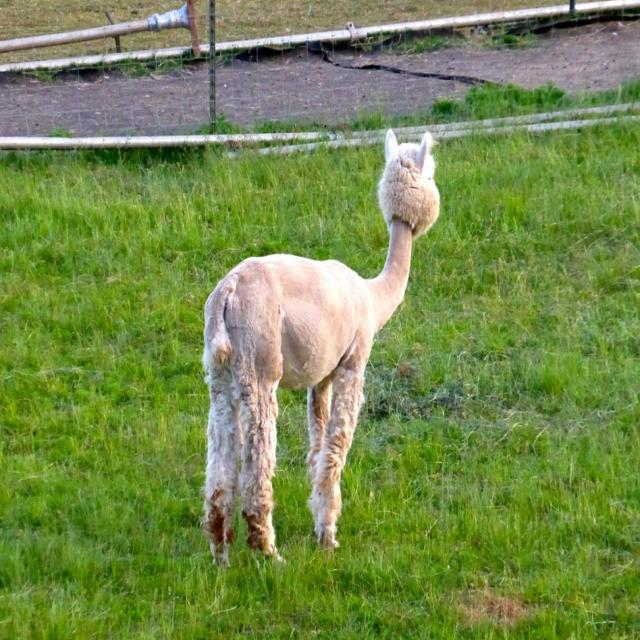alpaca: (202, 130, 442, 564)
